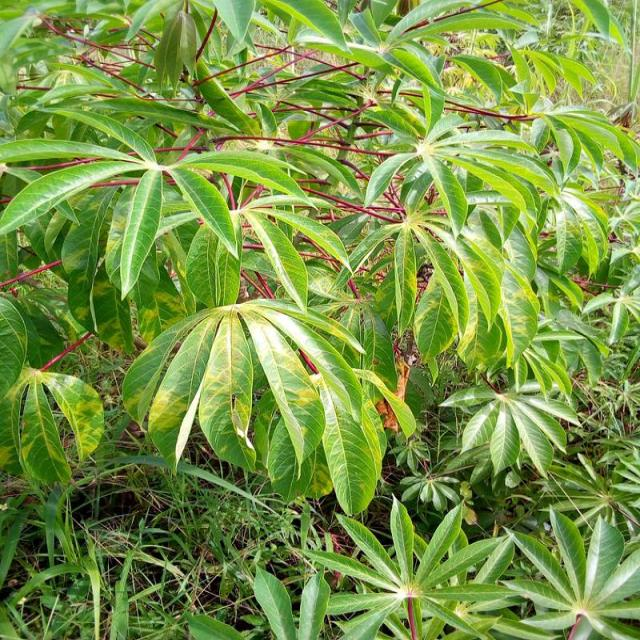cassava leaf: (0, 0, 637, 518), (122, 297, 387, 514)
